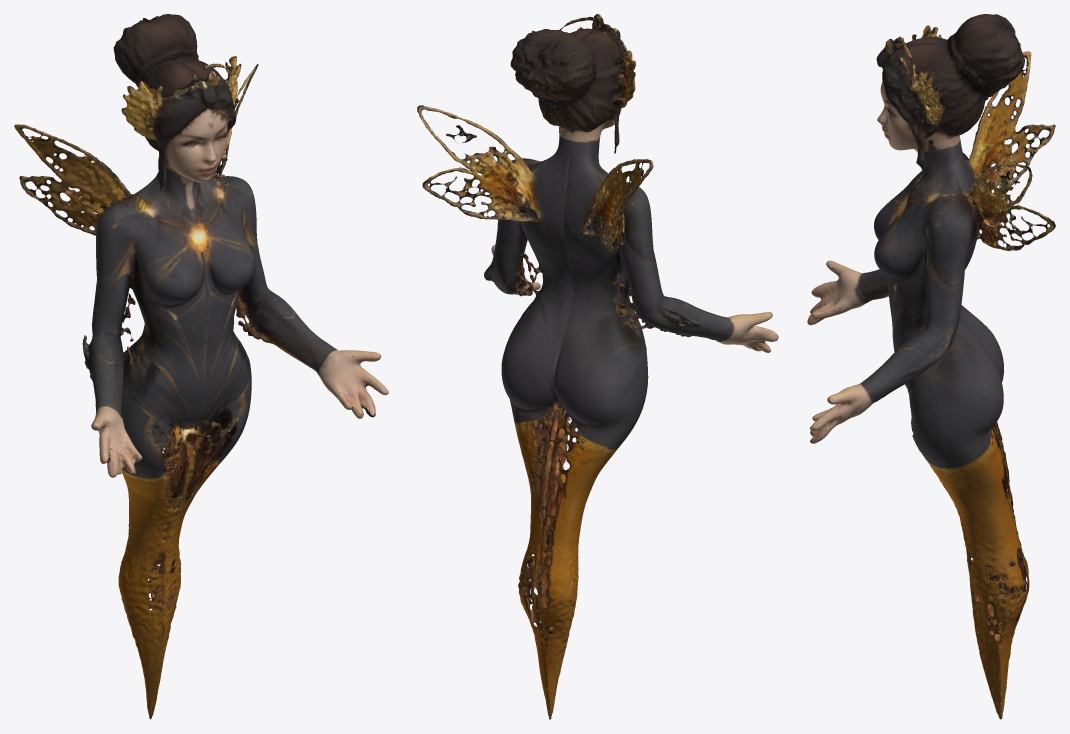
The model's file is Meshy_AI_Honeycomb_Empress_0816181216_texture.fbx.
3 views of the same model, side by side, from view 1: azimuth 30°, elevation 25°; view 2: azimuth 150°, elevation 25°; view 3: azimuth 270°, elevation 25° (orthographic). The views are drawn at different scales.
Parts seen in each view (by area): view 1: Mesh_0; view 2: Mesh_0; view 3: Mesh_0.
Boxes of the visible parts, x1=… form: Mesh_0: x1=14, y1=14, x2=388, y2=719; Mesh_0: x1=417, y1=14, x2=778, y2=719; Mesh_0: x1=807, y1=14, x2=1055, y2=719.
Bounding box in the file's own units: 86.2 × 200 × 64.52.
1 material, 1 textured.
